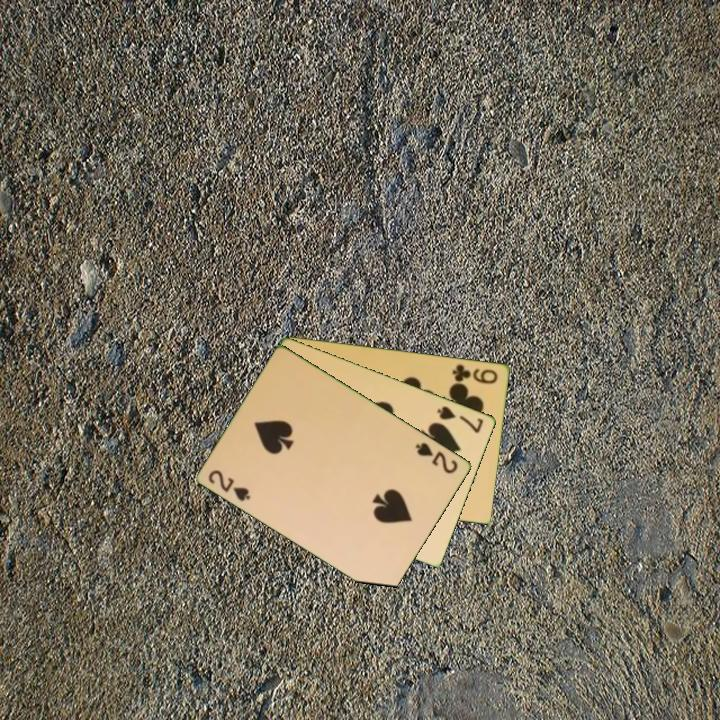2s: (412, 438, 461, 477), (205, 466, 254, 504)
7s: (434, 402, 487, 436)
9c: (449, 361, 501, 387)
